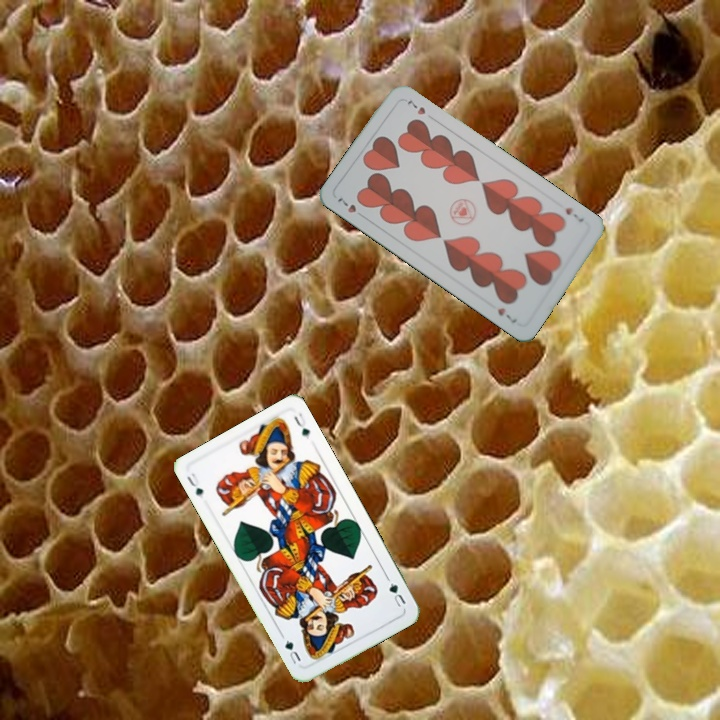GU: (385, 578, 408, 610), (182, 469, 206, 499)
H7: (333, 193, 368, 221), (561, 203, 587, 225)
